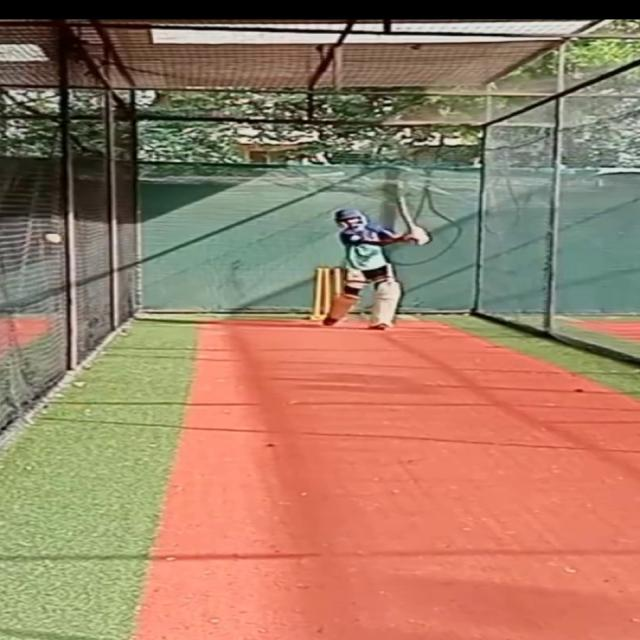ball: (37, 231, 63, 243)
stump: (310, 266, 342, 318)
